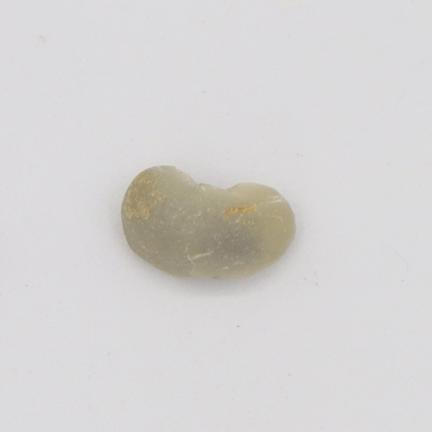shell: (122, 166, 295, 278)
